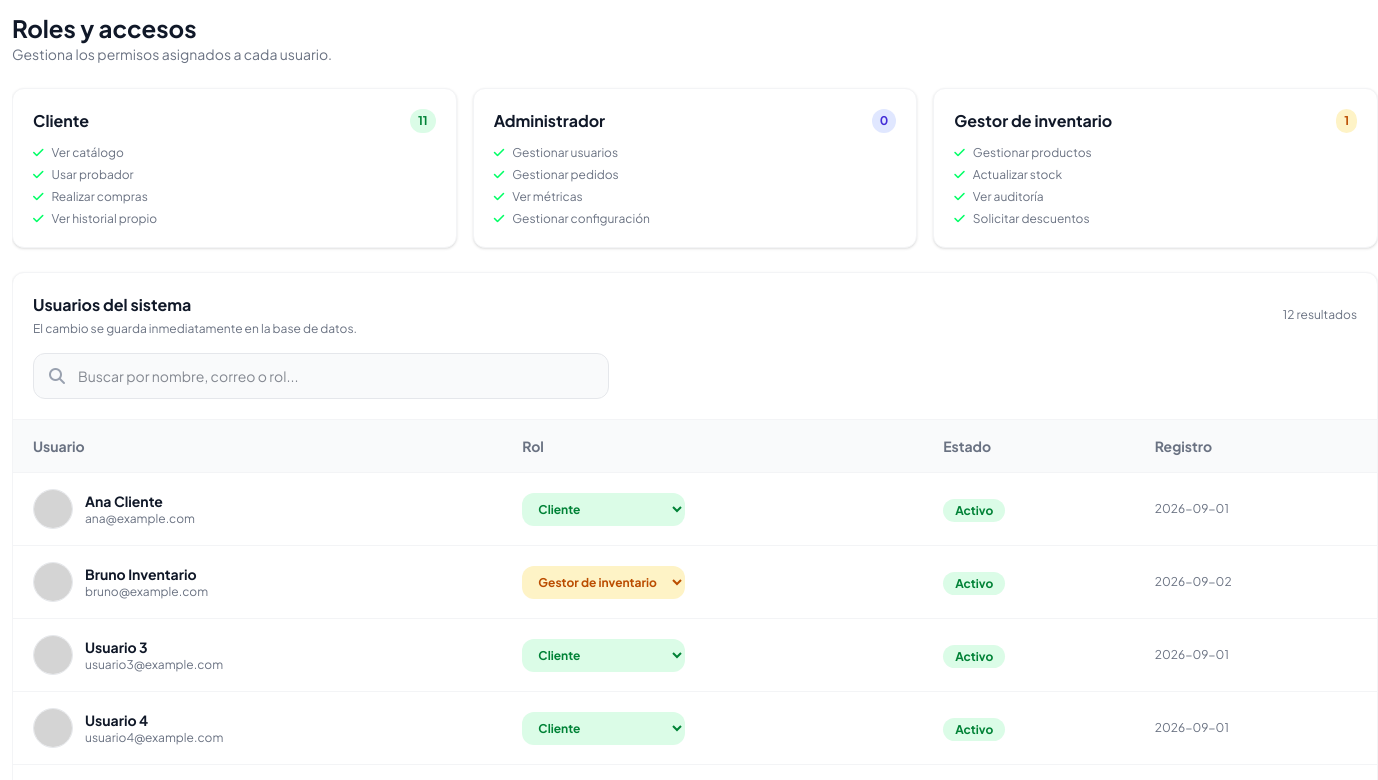
Test: AdminRolesAccessView › permite buscar y paginar usuarios del sistema
Expected: the text "Usuario 3" is shown, [85,638,148,656]
In the search field named "Buscar usuarios del sistema": x=321, y=376 [33,353,609,399], type "Usuario 12"
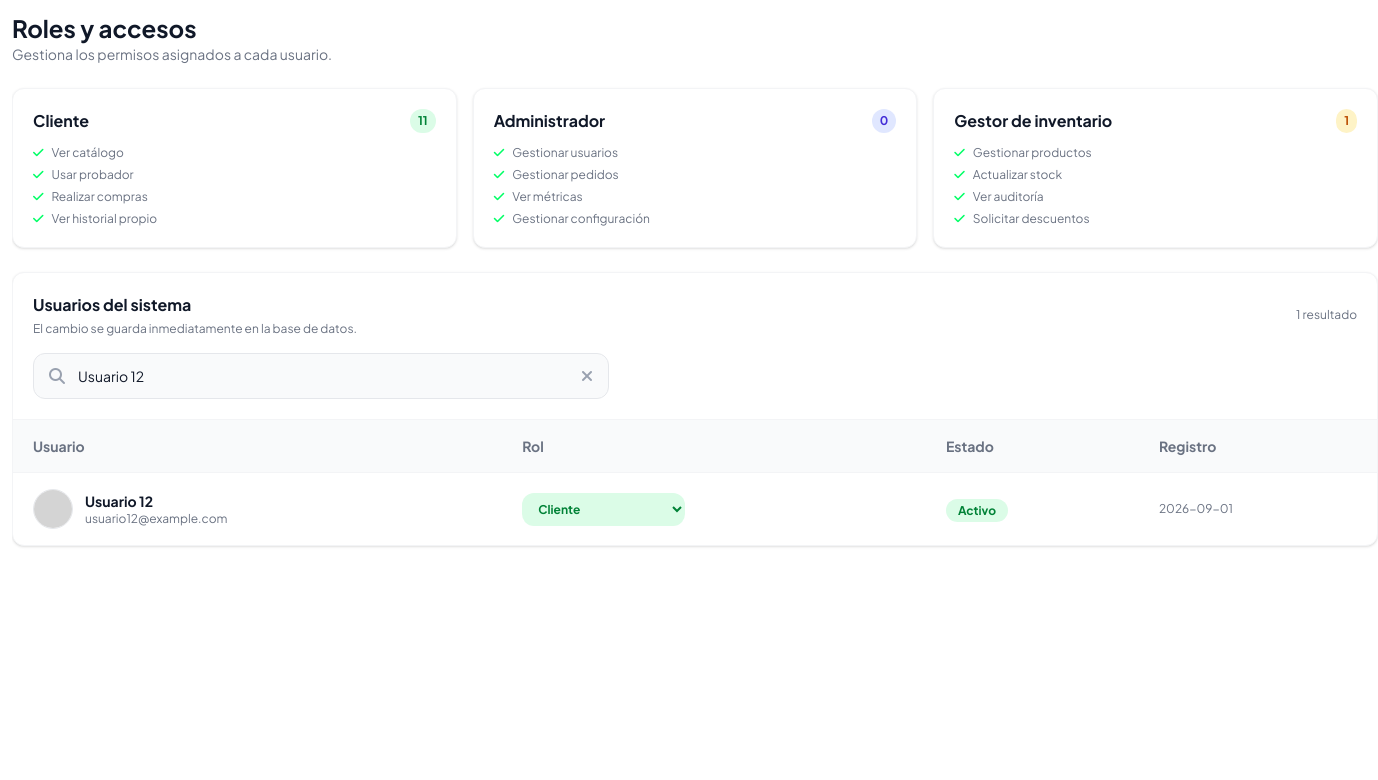
Now the text "Usuario 12" is shown, box [85,492,153,510]
Now the text "Usuario 3" is gone
